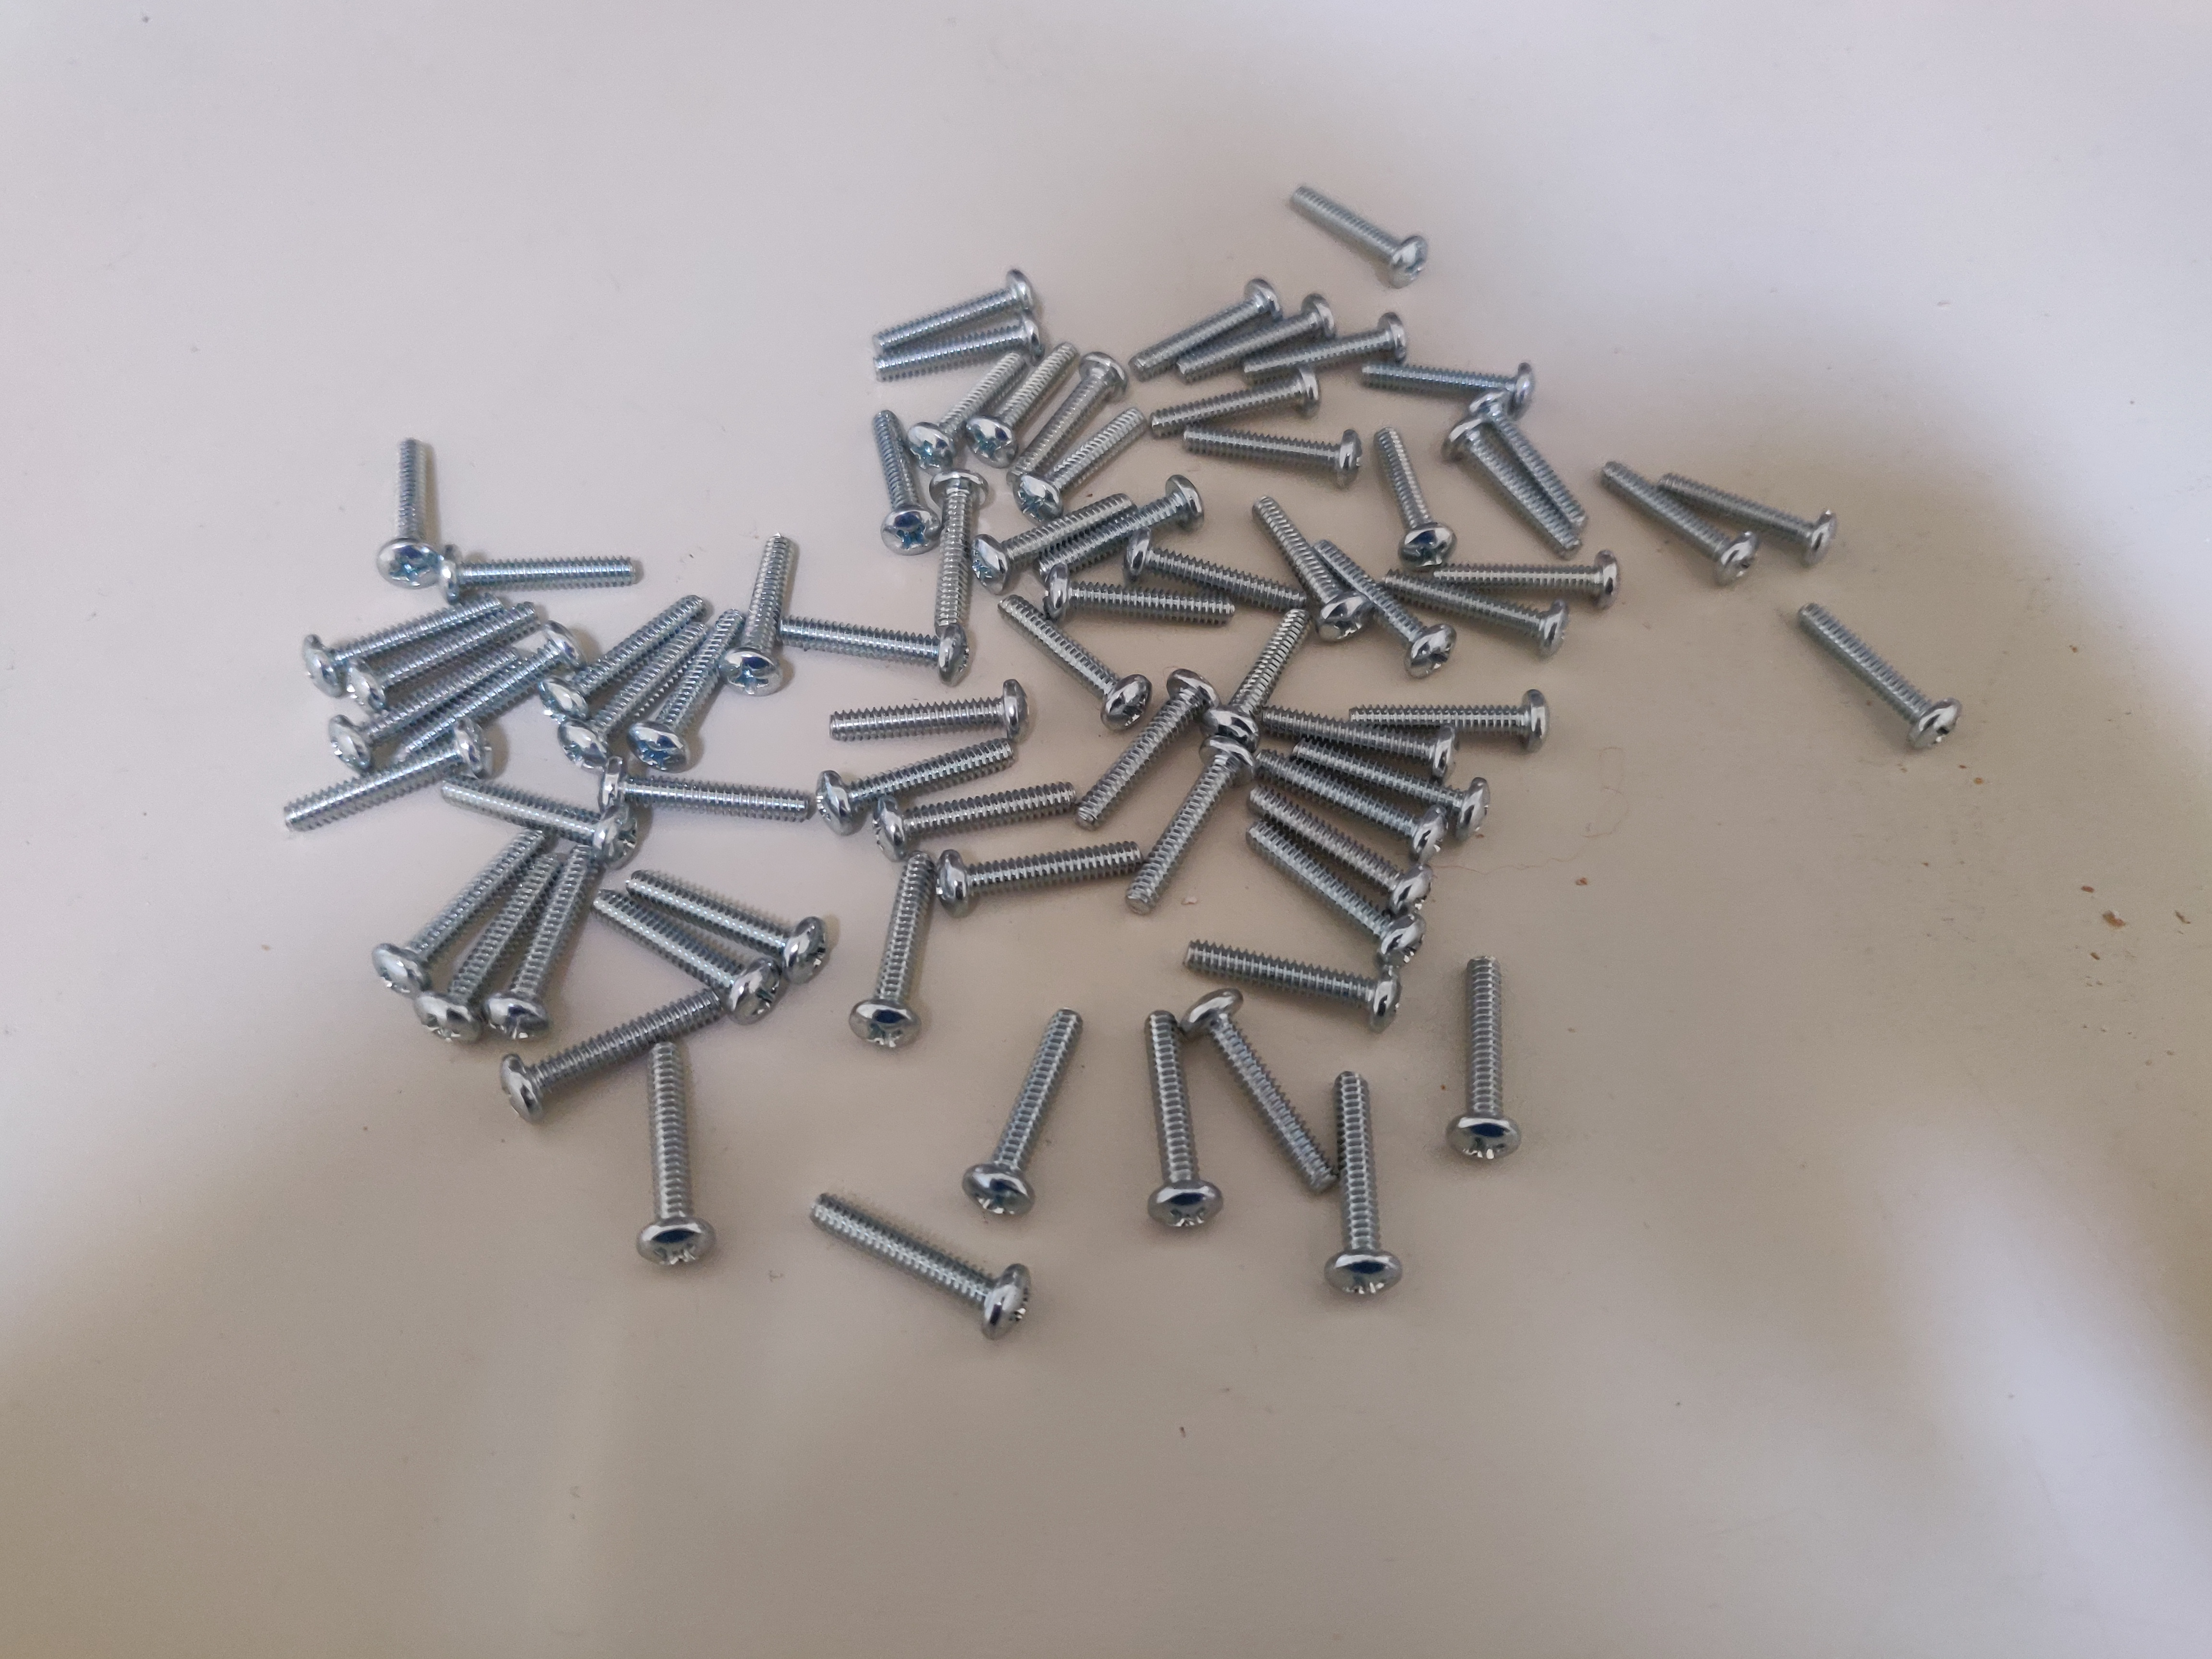longscrew: (1179, 1002, 1341, 1190), (806, 1192, 1021, 1331), (488, 993, 725, 1105), (418, 852, 559, 1035), (327, 640, 524, 770), (395, 619, 590, 749), (381, 821, 533, 988), (280, 718, 503, 831), (594, 885, 777, 1018), (1804, 596, 1963, 748), (566, 610, 725, 760), (624, 856, 824, 972), (1318, 1068, 1411, 1319), (1433, 945, 1526, 1194), (1249, 793, 1432, 913), (1254, 836, 1437, 957), (974, 997, 1069, 1222), (1137, 1012, 1228, 1246), (1592, 455, 1759, 580), (636, 606, 758, 775), (1176, 932, 1400, 1023), (1001, 589, 1143, 730), (1132, 746, 1249, 915), (547, 592, 714, 709), (348, 601, 540, 701), (1383, 554, 1571, 655), (1094, 657, 1204, 826), (1472, 385, 1595, 535), (509, 852, 606, 1042), (1318, 537, 1454, 673), (1294, 744, 1489, 835), (1252, 775, 1447, 864), (819, 742, 1029, 824), (880, 770, 1090, 852), (944, 840, 1155, 922), (305, 598, 495, 687), (1444, 418, 1576, 545), (1249, 493, 1362, 640), (1029, 490, 1202, 582), (437, 782, 639, 861), (718, 530, 812, 697), (859, 854, 935, 1051), (866, 321, 1062, 396), (779, 606, 981, 678), (1350, 687, 1545, 760), (866, 272, 1047, 350), (1670, 465, 1836, 551), (643, 1047, 702, 1284), (1012, 347, 1129, 467), (1266, 701, 1461, 772), (1367, 422, 1465, 565), (1214, 606, 1315, 742), (911, 352, 1033, 464), (597, 765, 813, 828), (1294, 178, 1426, 279), (1125, 281, 1271, 369), (1012, 406, 1136, 507), (1136, 373, 1332, 436), (1054, 572, 1238, 636), (1136, 540, 1301, 612), (982, 488, 1136, 563), (1176, 300, 1327, 375), (1371, 345, 1536, 413), (820, 685, 1047, 734), (1184, 429, 1362, 490), (1245, 315, 1407, 380), (925, 477, 991, 629), (974, 342, 1071, 444), (439, 551, 648, 594), (388, 441, 446, 598), (878, 408, 935, 565), (1440, 551, 1625, 598)
